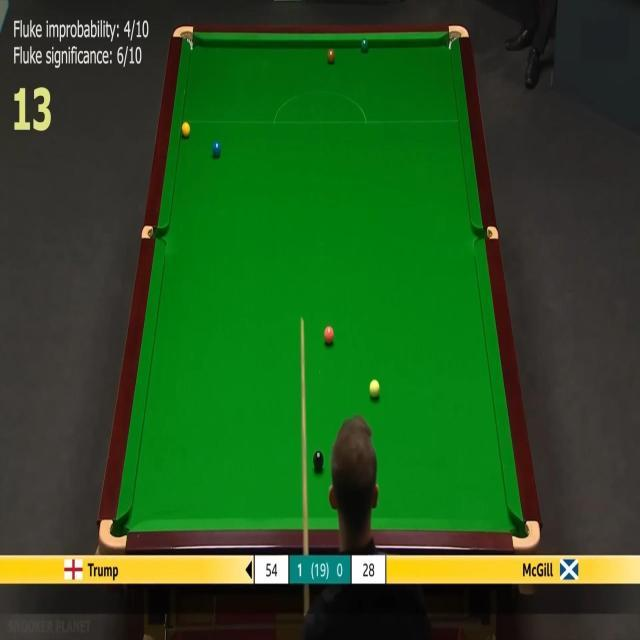Ball: (313, 450, 324, 470), (324, 325, 334, 343), (370, 380, 380, 398), (212, 140, 221, 156), (182, 121, 190, 137), (327, 48, 335, 62), (361, 38, 368, 51)
